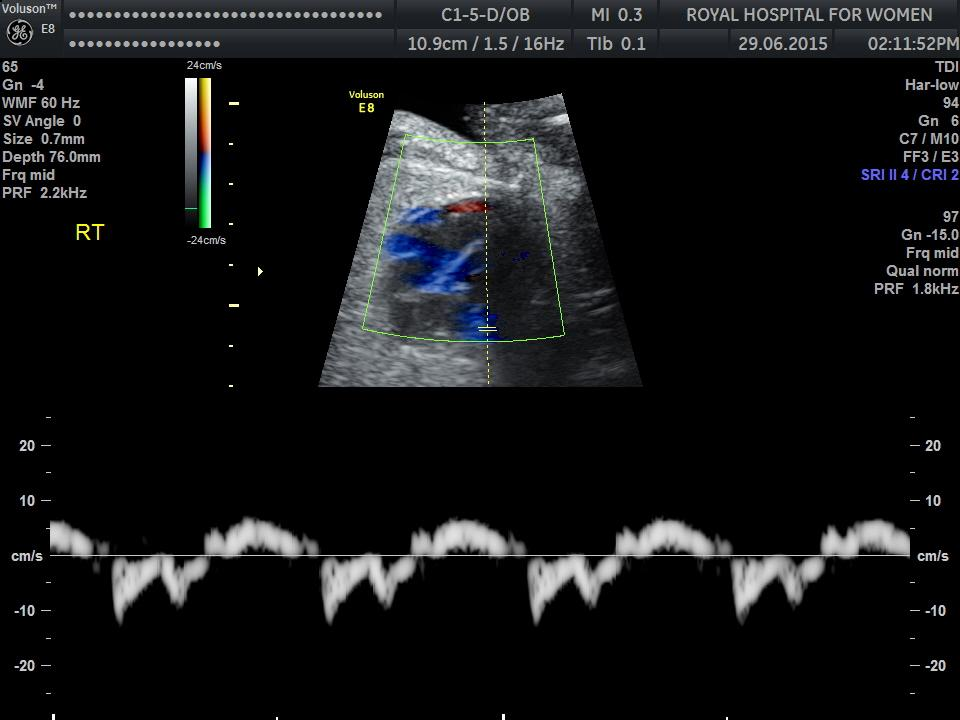Ultrasound-Waves: (52, 403, 908, 719)
